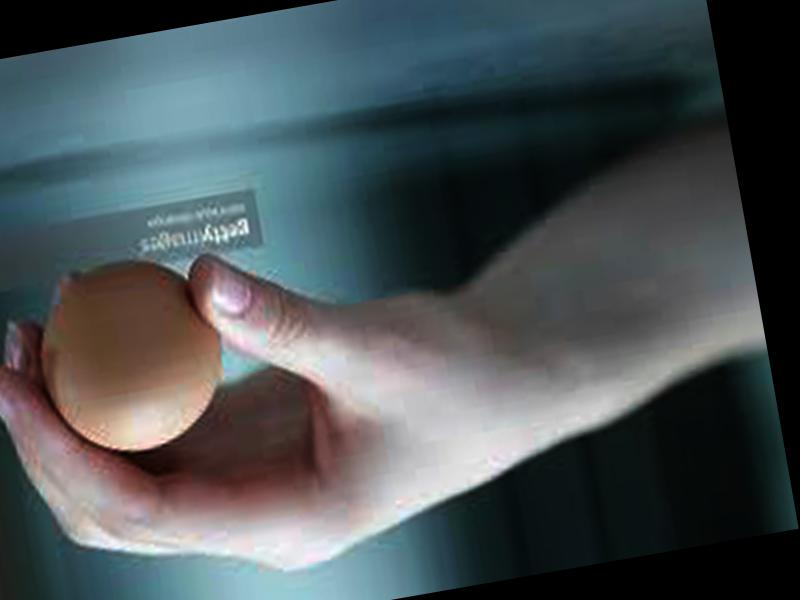Eggs: (25, 243, 240, 467)
